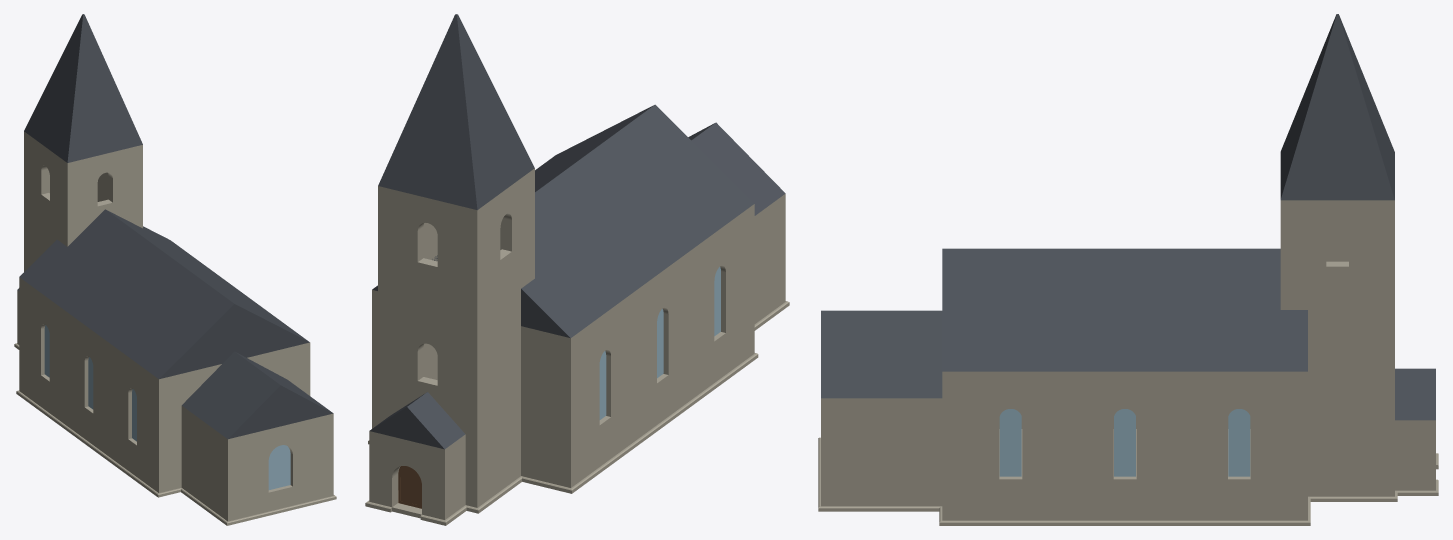
3 renders of one model, left to right at view 1: azimuth 30°, elevation 25°; view 2: azimuth 150°, elevation 25°; view 3: azimuth 270°, elevation 25°, orthographic. The views are drawn at different scales.
Parts seen in each view (by area): view 1: body_stone, roof_slate, trim_stone, glass_glass; view 2: body_stone, roof_slate, trim_stone, door_timber, glass_glass; view 3: body_stone, roof_slate, glass_glass (×3), trim_stone.
Part boxes in pixels (x1,y1,x2,y2): body_stone: (17,131,333,521); roof_slate: (17,14,333,439); trim_stone: (14,343,336,525); glass_glass: (268,445,290,489); body_stone: (369,168,785,519); roof_slate: (369,14,785,449); trim_stone: (365,301,789,525); door_timber: (398,466,421,508); glass_glass: (599,351,606,419); body_stone: (821,200,1435,520); roof_slate: (821,14,1435,420); glass_glass (×3): (999,409,1250,476); trim_stone: (818,437,1438,525).
Size of what is drawn, in the model's own units: 10.24 by 22.3 by 27.14.
